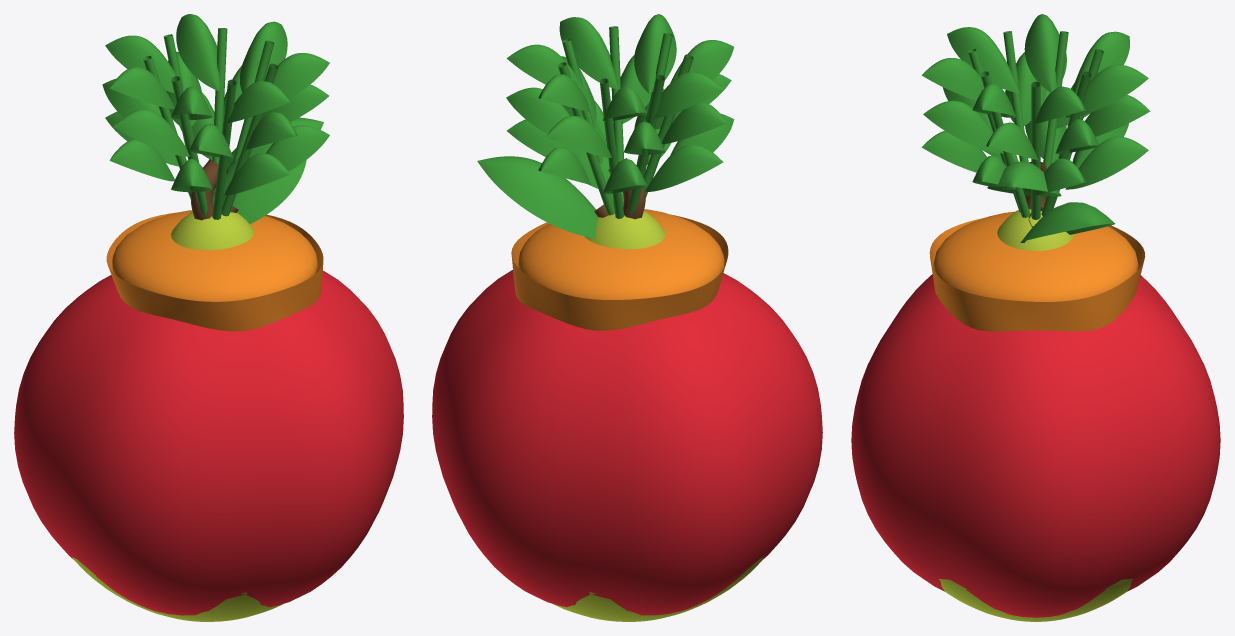
File: produce-v15.glb
3 views of the same model, side by side, from view 1: azimuth 30°, elevation 25°; view 2: azimuth 150°, elevation 25°; view 3: azimuth 270°, elevation 25° (orthographic).
Visible parts, largest first — view 1: Sculpted apple, carrot_Fresh leaves, carrot_Carrot orange, Sculpted pear, Apple leaf, Pear stalk, Pear leaf; view 2: Sculpted apple, carrot_Fresh leaves, carrot_Carrot orange, Apple leaf, Sculpted pear, Pear leaf; view 3: Sculpted apple, carrot_Fresh leaves, carrot_Carrot orange, Sculpted pear, Apple leaf, Pear leaf.
Boxes of the visible parts, <box> form: Sculpted apple: <box>14,270,403,615</box>; carrot_Fresh leaves: <box>102,14,329,219</box>; carrot_Carrot orange: <box>106,210,323,331</box>; Sculpted pear: <box>72,211,282,621</box>; Apple leaf: <box>227,148,306,224</box>; Pear stalk: <box>190,159,228,220</box>; Pear leaf: <box>213,117,323,196</box>; Sculpted apple: <box>432,270,822,615</box>; carrot_Fresh leaves: <box>506,14,734,218</box>; carrot_Carrot orange: <box>511,209,728,330</box>; Apple leaf: <box>477,156,597,238</box>; Sculpted pear: <box>553,205,764,621</box>; Pear leaf: <box>576,125,623,194</box>; Sculpted apple: <box>851,274,1220,617</box>; carrot_Fresh leaves: <box>921,14,1150,219</box>; carrot_Carrot orange: <box>929,211,1145,331</box>; Sculpted pear: <box>938,209,1133,621</box>; Apple leaf: <box>1020,202,1115,242</box>; Pear leaf: <box>987,161,1061,196</box>.
Bounding box in the file's own units: 0.84 × 1.33 × 0.7909.
